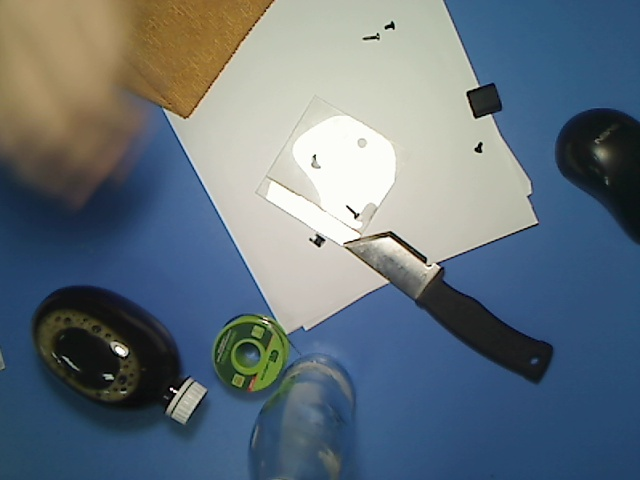plast_bottle: (22, 279, 216, 431)
